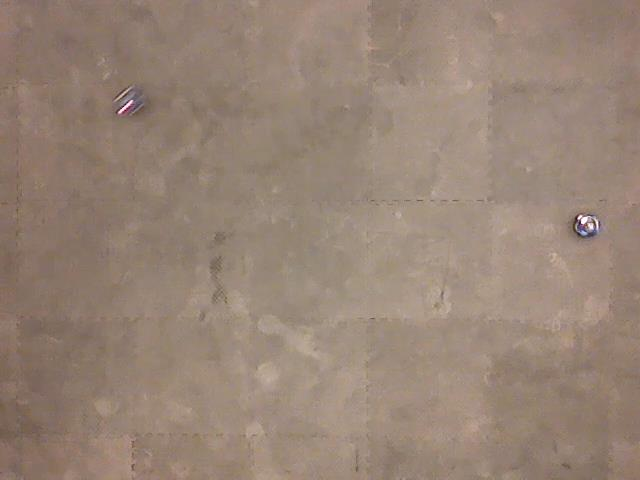Agent: (111, 83, 147, 118), (570, 211, 603, 240)
